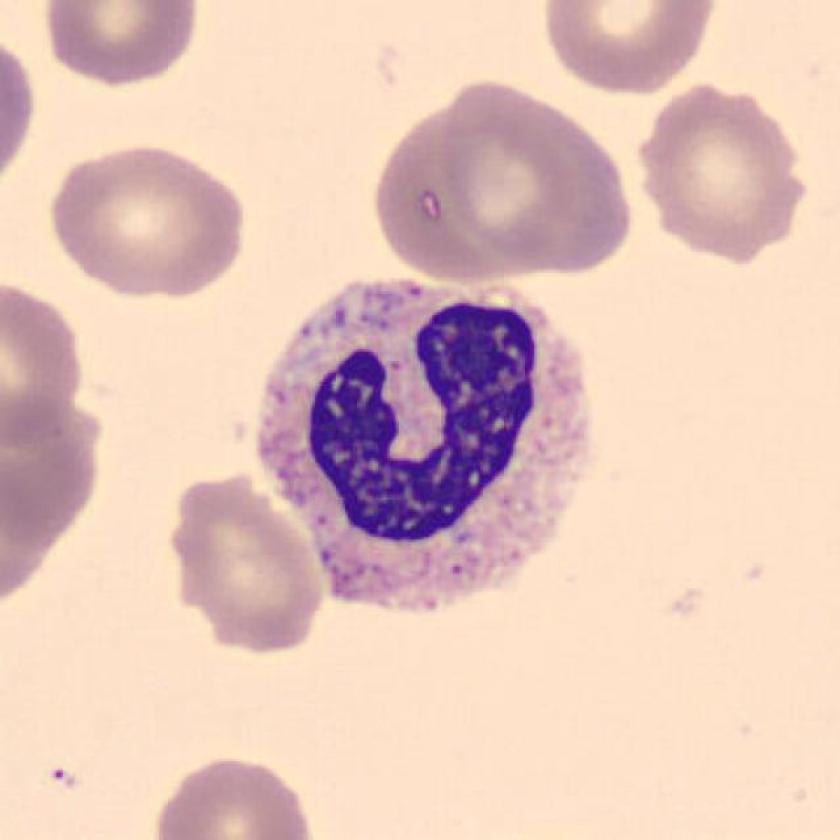neutrophil: (260, 282, 591, 614)
